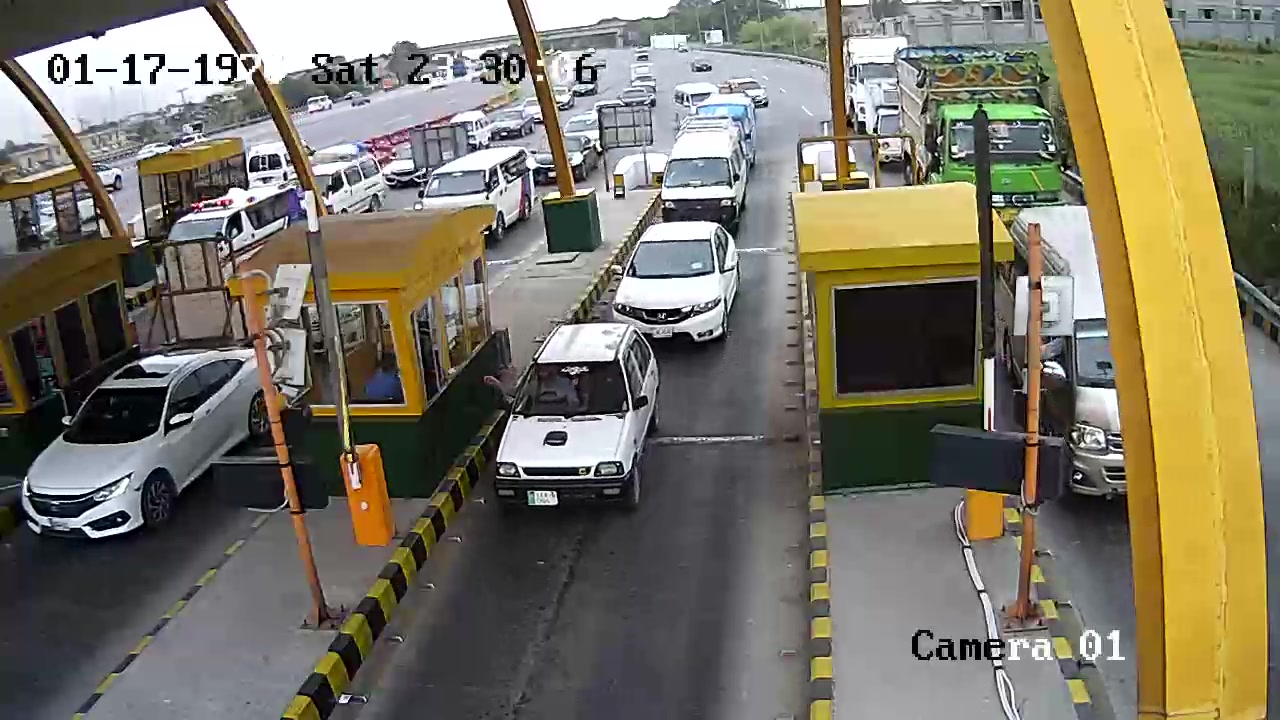F1: (488, 316, 672, 522)
